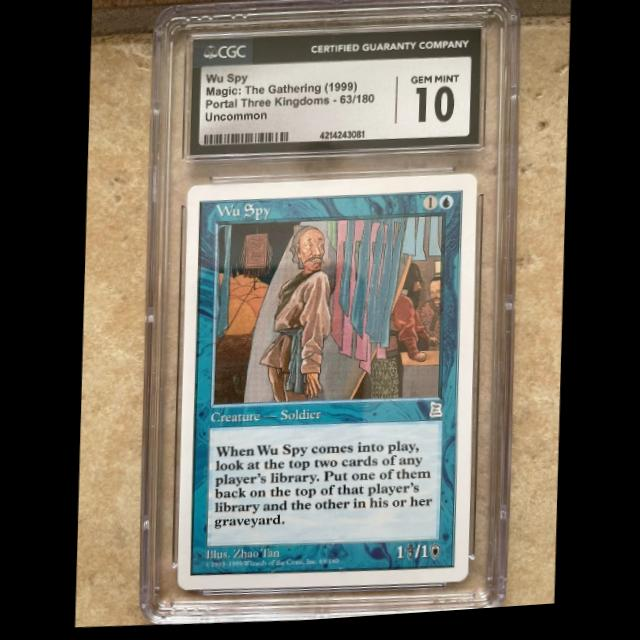card: (175, 179, 477, 593)
cgc_label: (187, 33, 481, 158)
cgc_slab: (135, 0, 521, 627)
